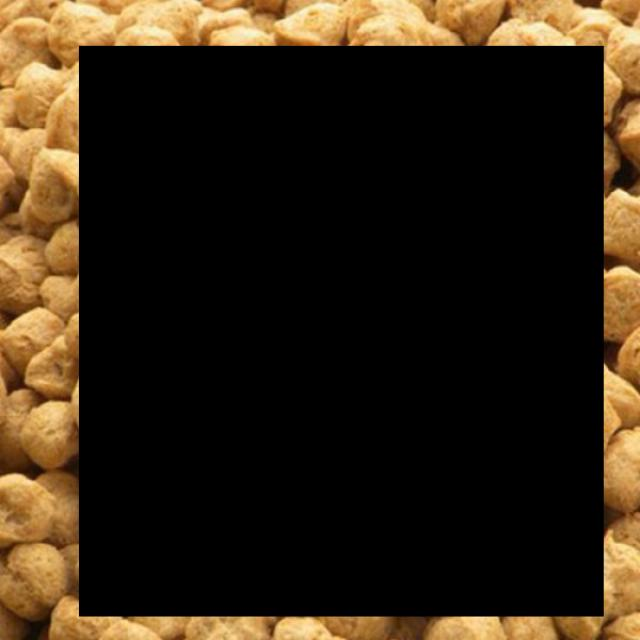Nutrela: (80, 47, 605, 617)
